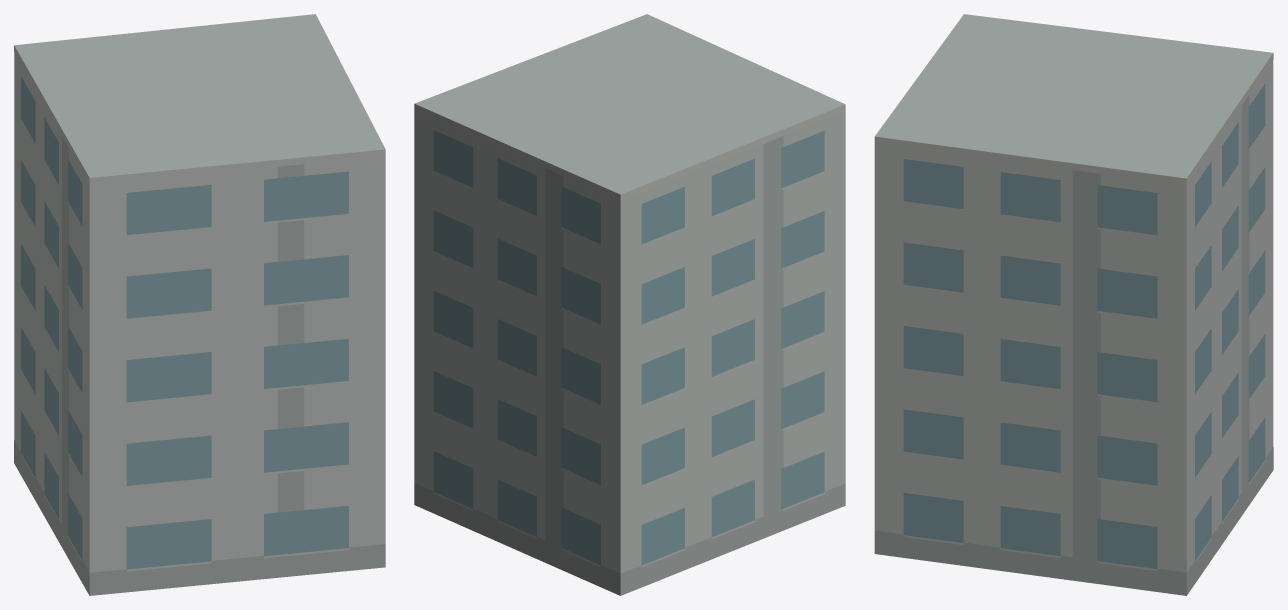
The model's file is survey-upis-32853131.glb.
3 views of the same model, side by side, from view 1: azimuth 30°, elevation 25°; view 2: azimuth 150°, elevation 25°; view 3: azimuth 270°, elevation 25° (orthographic). The views are drawn at different scales.
Parts seen in each view (by area): view 1: survey-upis-32853131.tmp; view 2: survey-upis-32853131.tmp; view 3: survey-upis-32853131.tmp.
Part boxes in pixels (left/top/right/bottom): survey-upis-32853131.tmp: left=14, top=14, right=385, bottom=595; survey-upis-32853131.tmp: left=414, top=14, right=845, bottom=595; survey-upis-32853131.tmp: left=874, top=14, right=1273, bottom=595.
Size of the model in its own units: 12.29 by 14.53 by 12.59.
